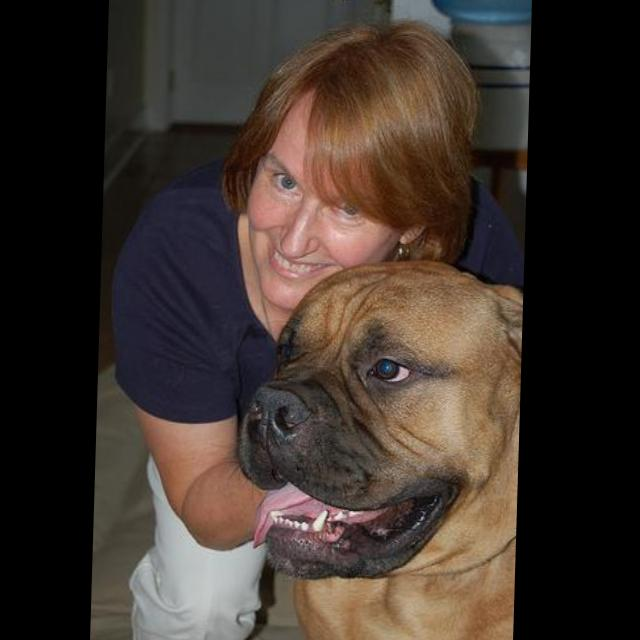bullmastiff: (235, 259, 526, 640)
face: (245, 89, 406, 310)
person: (104, 20, 533, 640)
